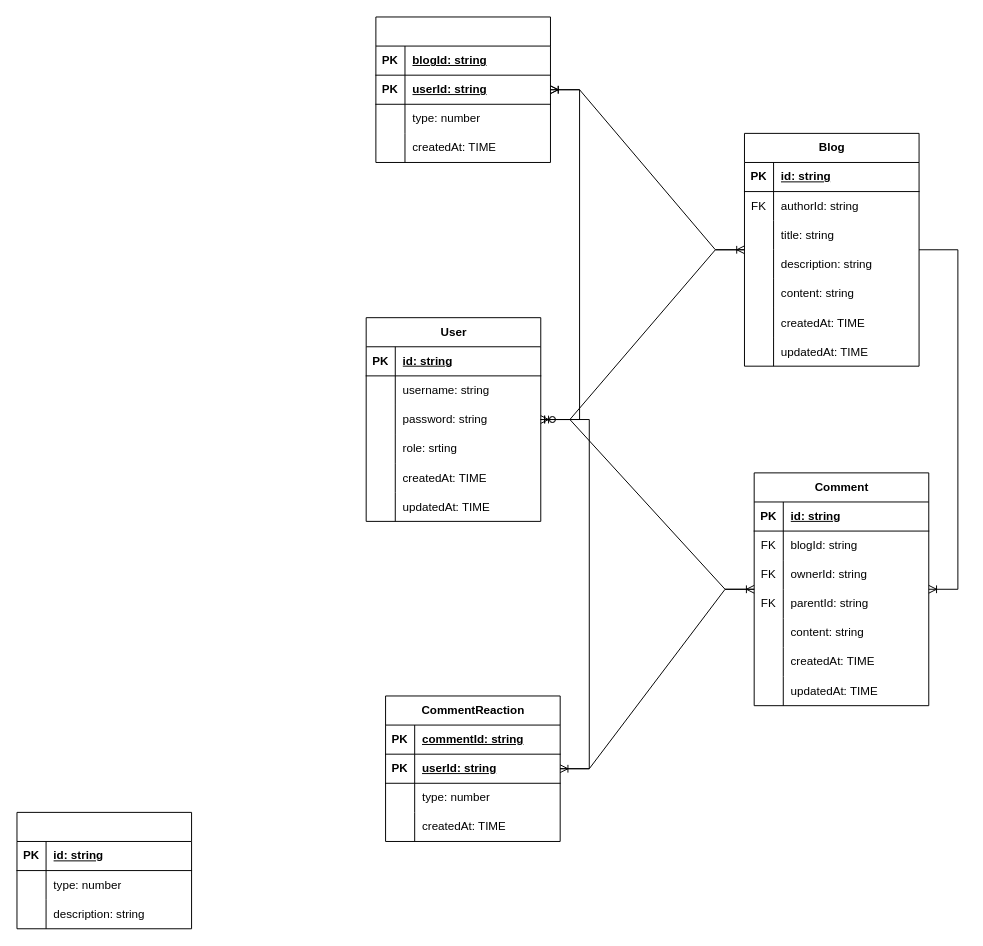
The diagram is 983 pixels wide and 946 high, and some of its shapes have lost their labels. Here are the shapes that lost their labels. From the top down, the box of each, then its label:
(375, 16, 550, 162): BlogReaction
(16, 811, 192, 929): ReactionType
